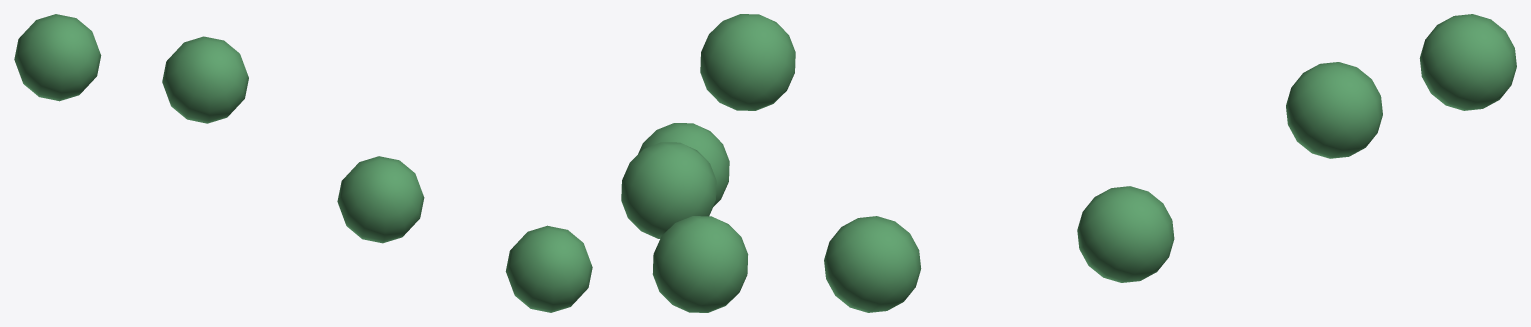
3 views of the same model, side by side, from view 1: azimuth 30°, elevation 25°; view 2: azimuth 150°, elevation 25°; view 3: azimuth 270°, elevation 25° (orthographic). The views are drawn at different scales.
Parts seen in each view (by area): view 1: 髂总中间淋巴结; view 2: 髂总中间淋巴结; view 3: 髂总中间淋巴结.
Boxes of the visible parts, <box> form: 髂总中间淋巴结: <box>14,14,592,312</box>; 髂总中间淋巴结: <box>621,14,795,312</box>; 髂总中间淋巴结: <box>824,14,1516,312</box>.
Bounding box in the file's own units: 0.0151 × 0.00728 × 0.0272.
